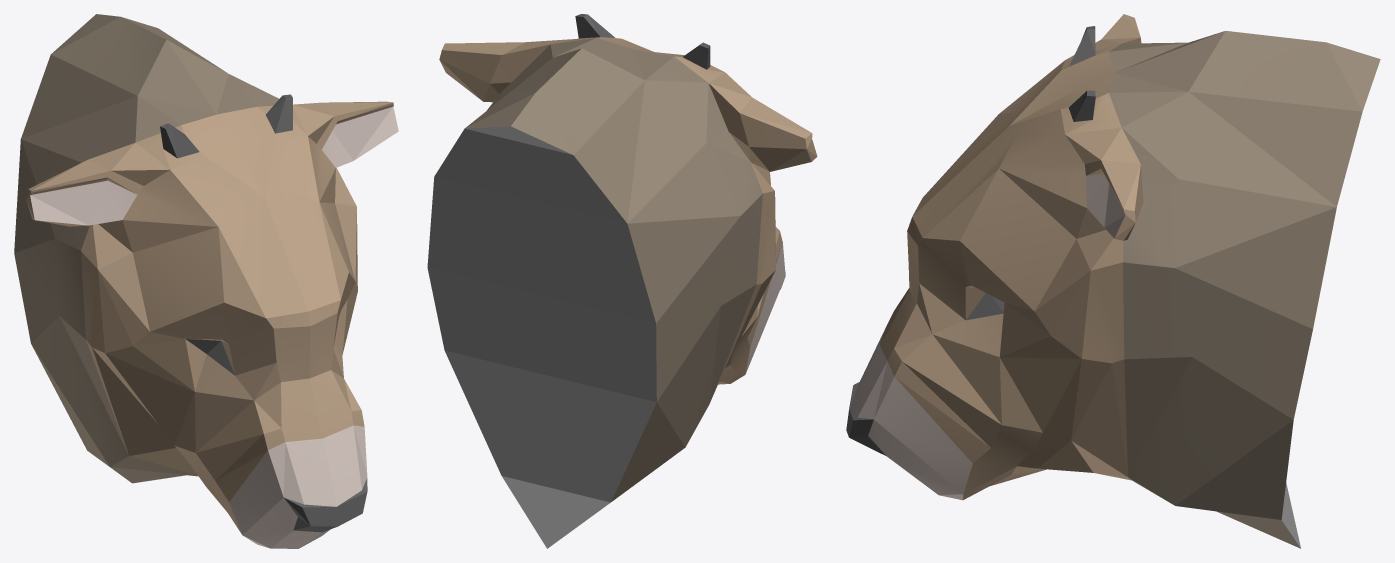
Rendered from Dusk_Head.fbx.
The picture shows the model from 3 angles, left to right: view 1: azimuth 30°, elevation 25°; view 2: azimuth 150°, elevation 25°; view 3: azimuth 270°, elevation 25°; orthographic projection. The views are drawn at different scales.
Visible parts, largest first — view 1: Muskalo03; view 2: Muskalo03; view 3: Muskalo03.
Boxes of the visible parts, bbox=[...] form: Muskalo03: bbox=[14, 14, 398, 548]; Muskalo03: bbox=[427, 14, 817, 548]; Muskalo03: bbox=[846, 14, 1380, 548].
Size of the model in its own units: 1.13 by 1.39 by 1.29.
